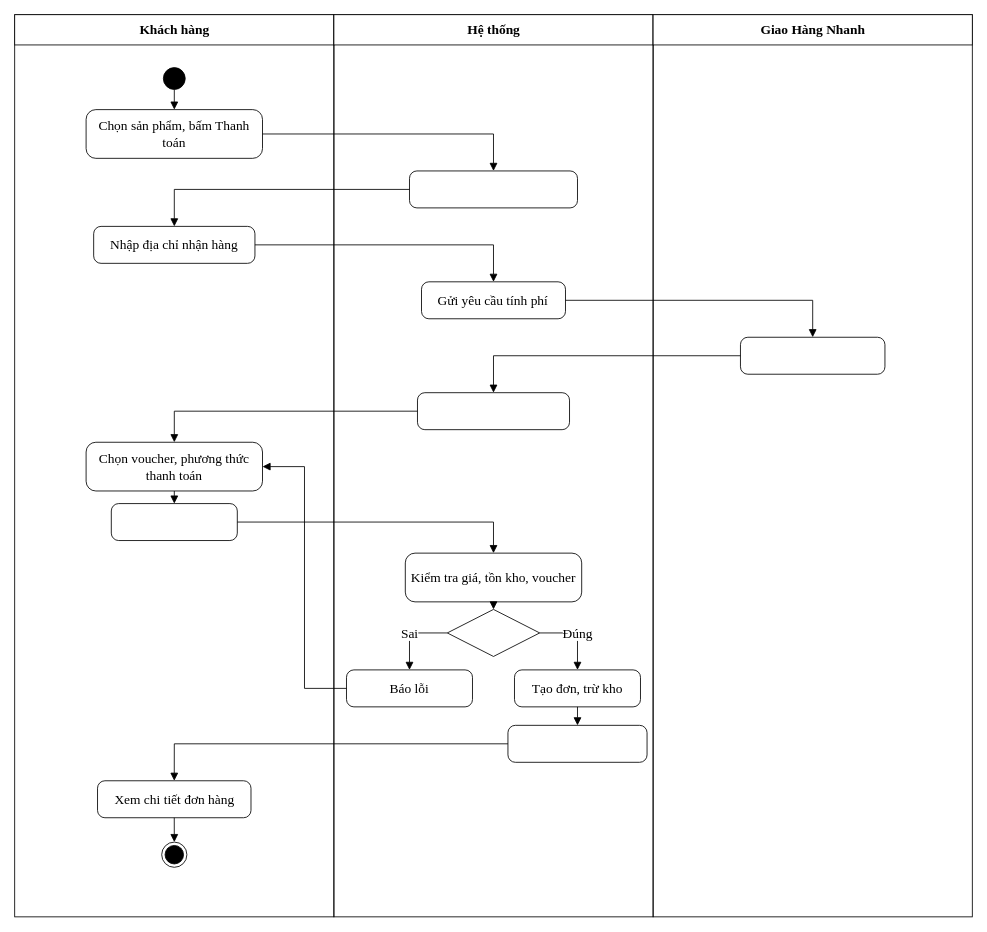
This 987x932 diagram has some shape labels left out. The shapes that lost their labels are listed below. From the top down, each one's centre as x and y in pixels, then its label:
At (x=493, y=189): "Hiển thị trang thanh toán".
At (x=812, y=355): "Tính phí vận chuyển".
At (x=493, y=411): "Hiển thị phí, tổng tiền".
At (x=173, y=522): "Bấm Đặt hàng".
At (x=493, y=632): "Hợp lệ?".
At (x=577, y=743): "Gửi email xác nhận".
